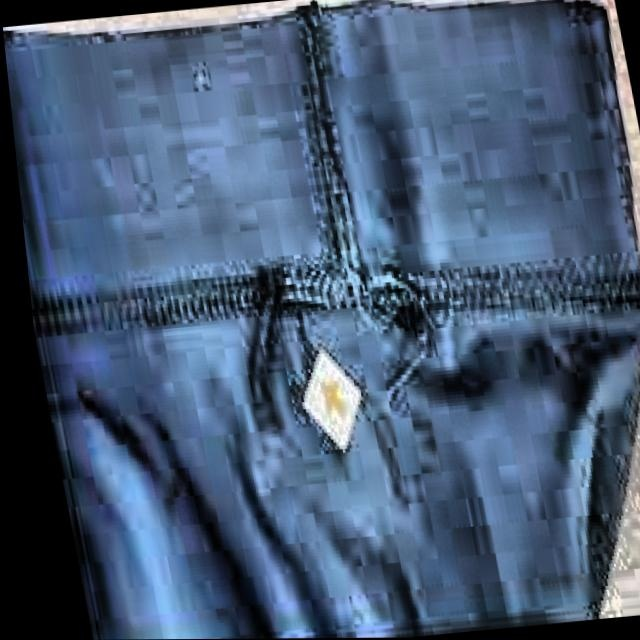Stitch: (335, 204, 479, 453), (171, 211, 312, 418)
